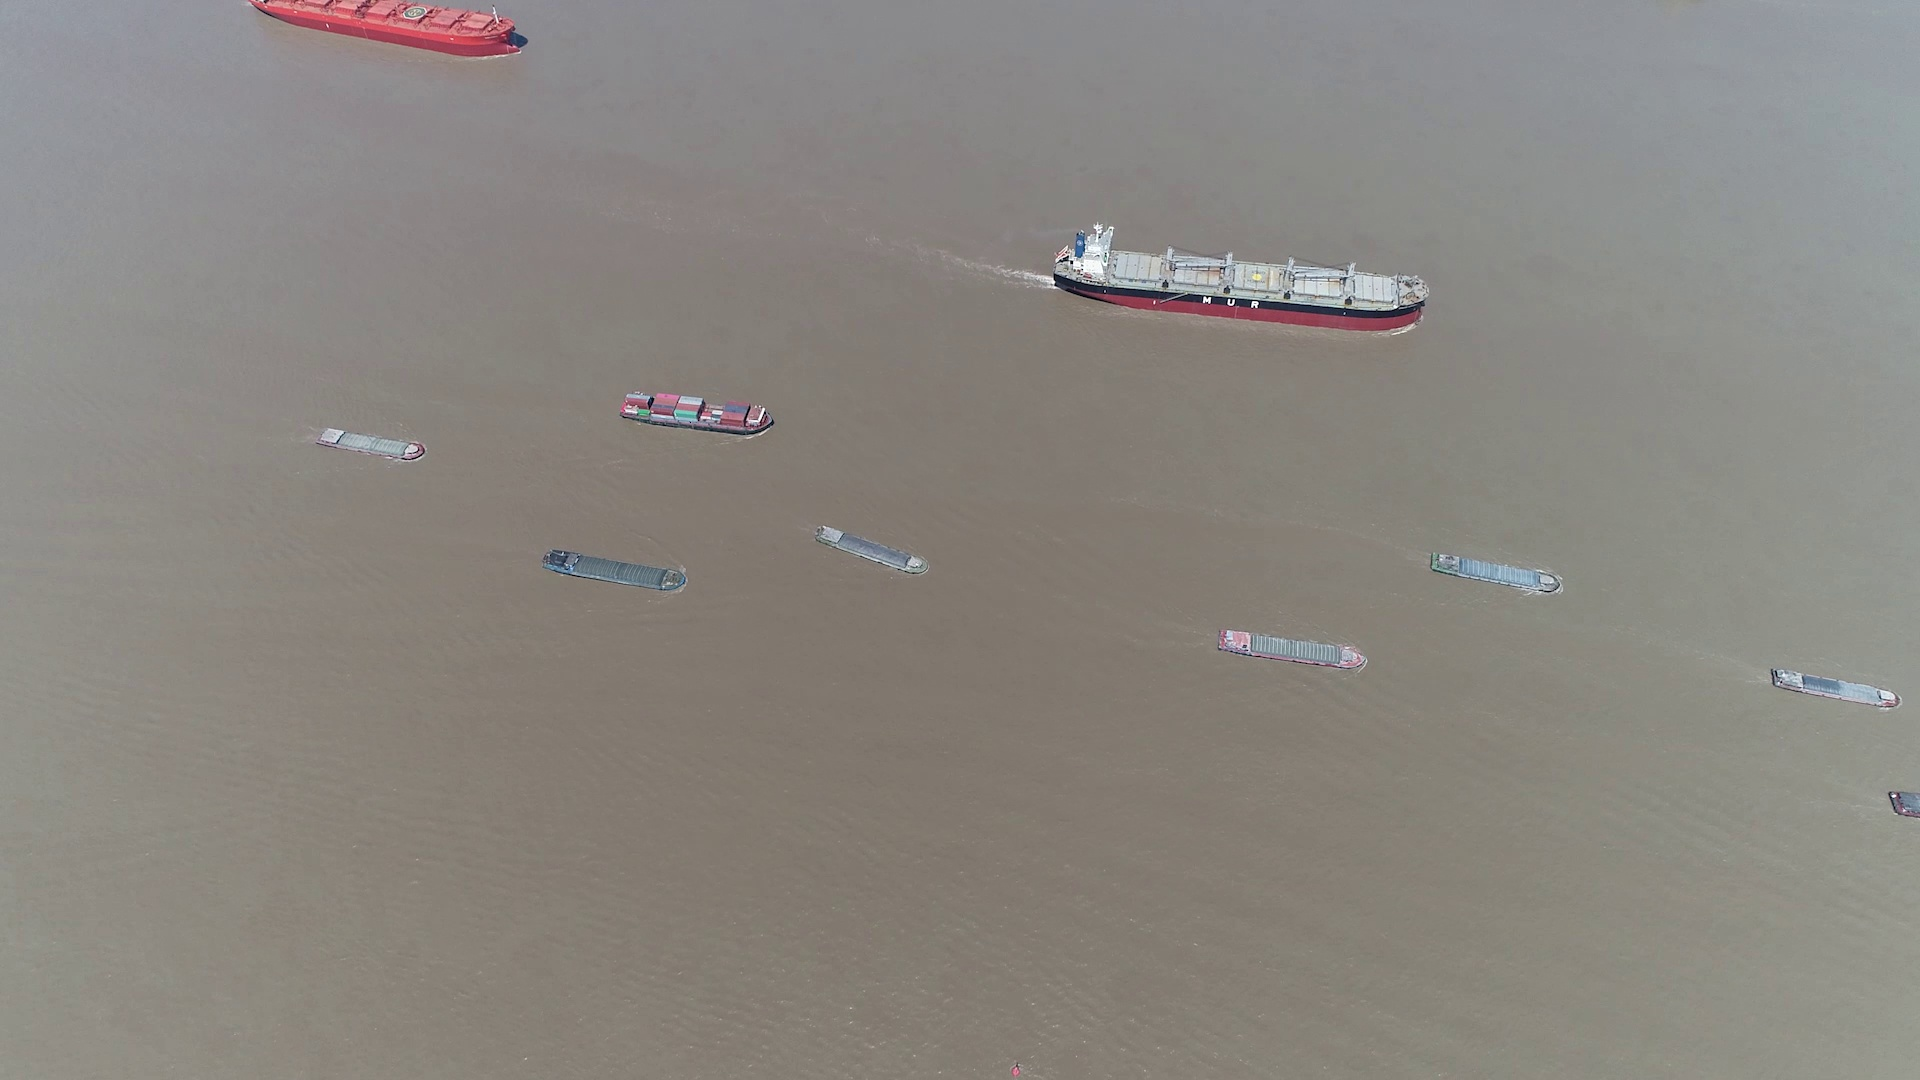ship: (1056, 228, 1429, 328), (251, 0, 524, 58), (545, 550, 688, 595), (1216, 629, 1367, 671), (620, 393, 775, 434), (816, 525, 930, 578), (1433, 553, 1564, 595), (1770, 666, 1899, 707), (315, 426, 426, 462), (1888, 790, 1919, 819)
